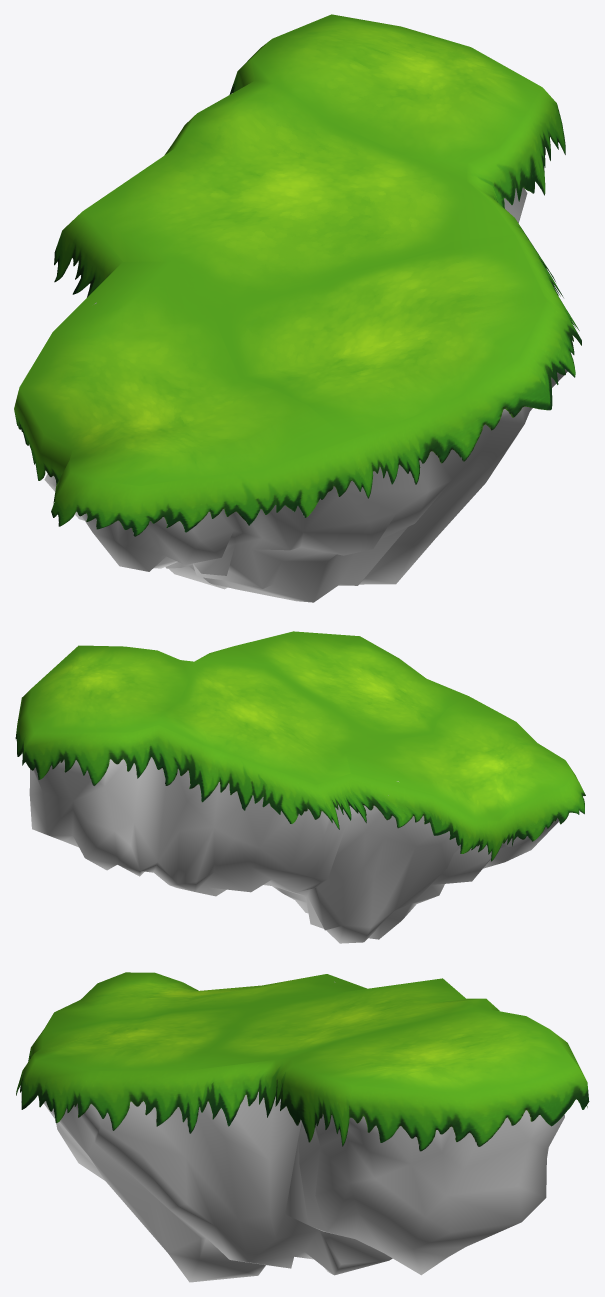
Rendered from Island_Small_12.fbx.
The picture shows the model from 3 angles, top to bottom: view 1: azimuth 30°, elevation 25°; view 2: azimuth 150°, elevation 25°; view 3: azimuth 270°, elevation 25°; orthographic projection. The views are drawn at different scales.
Visible parts, largest first — view 1: Island_Small_12; view 2: Island_Small_12; view 3: Island_Small_12.
Part boxes in pixels (<box>): Island_Small_12: <box>14,14,581,602</box>; Island_Small_12: <box>15,631,585,943</box>; Island_Small_12: <box>16,972,589,1282</box>.
Bounding box in the file's own units: 472 × 267 × 453.
